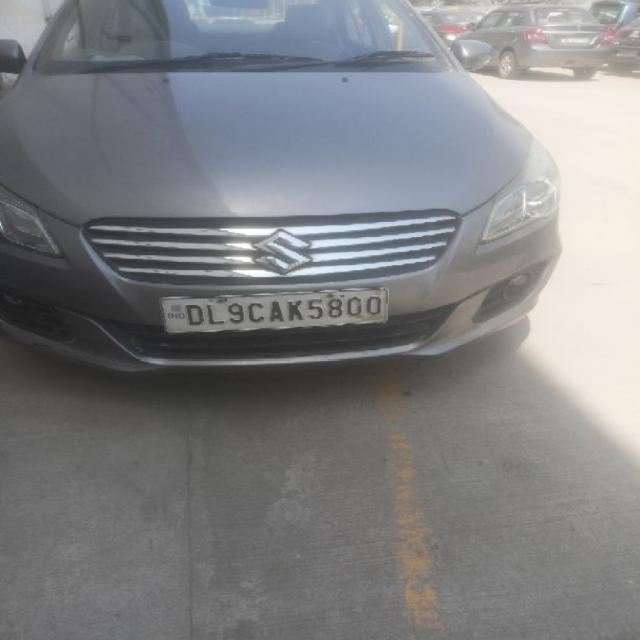license_plate: (158, 286, 389, 334)
